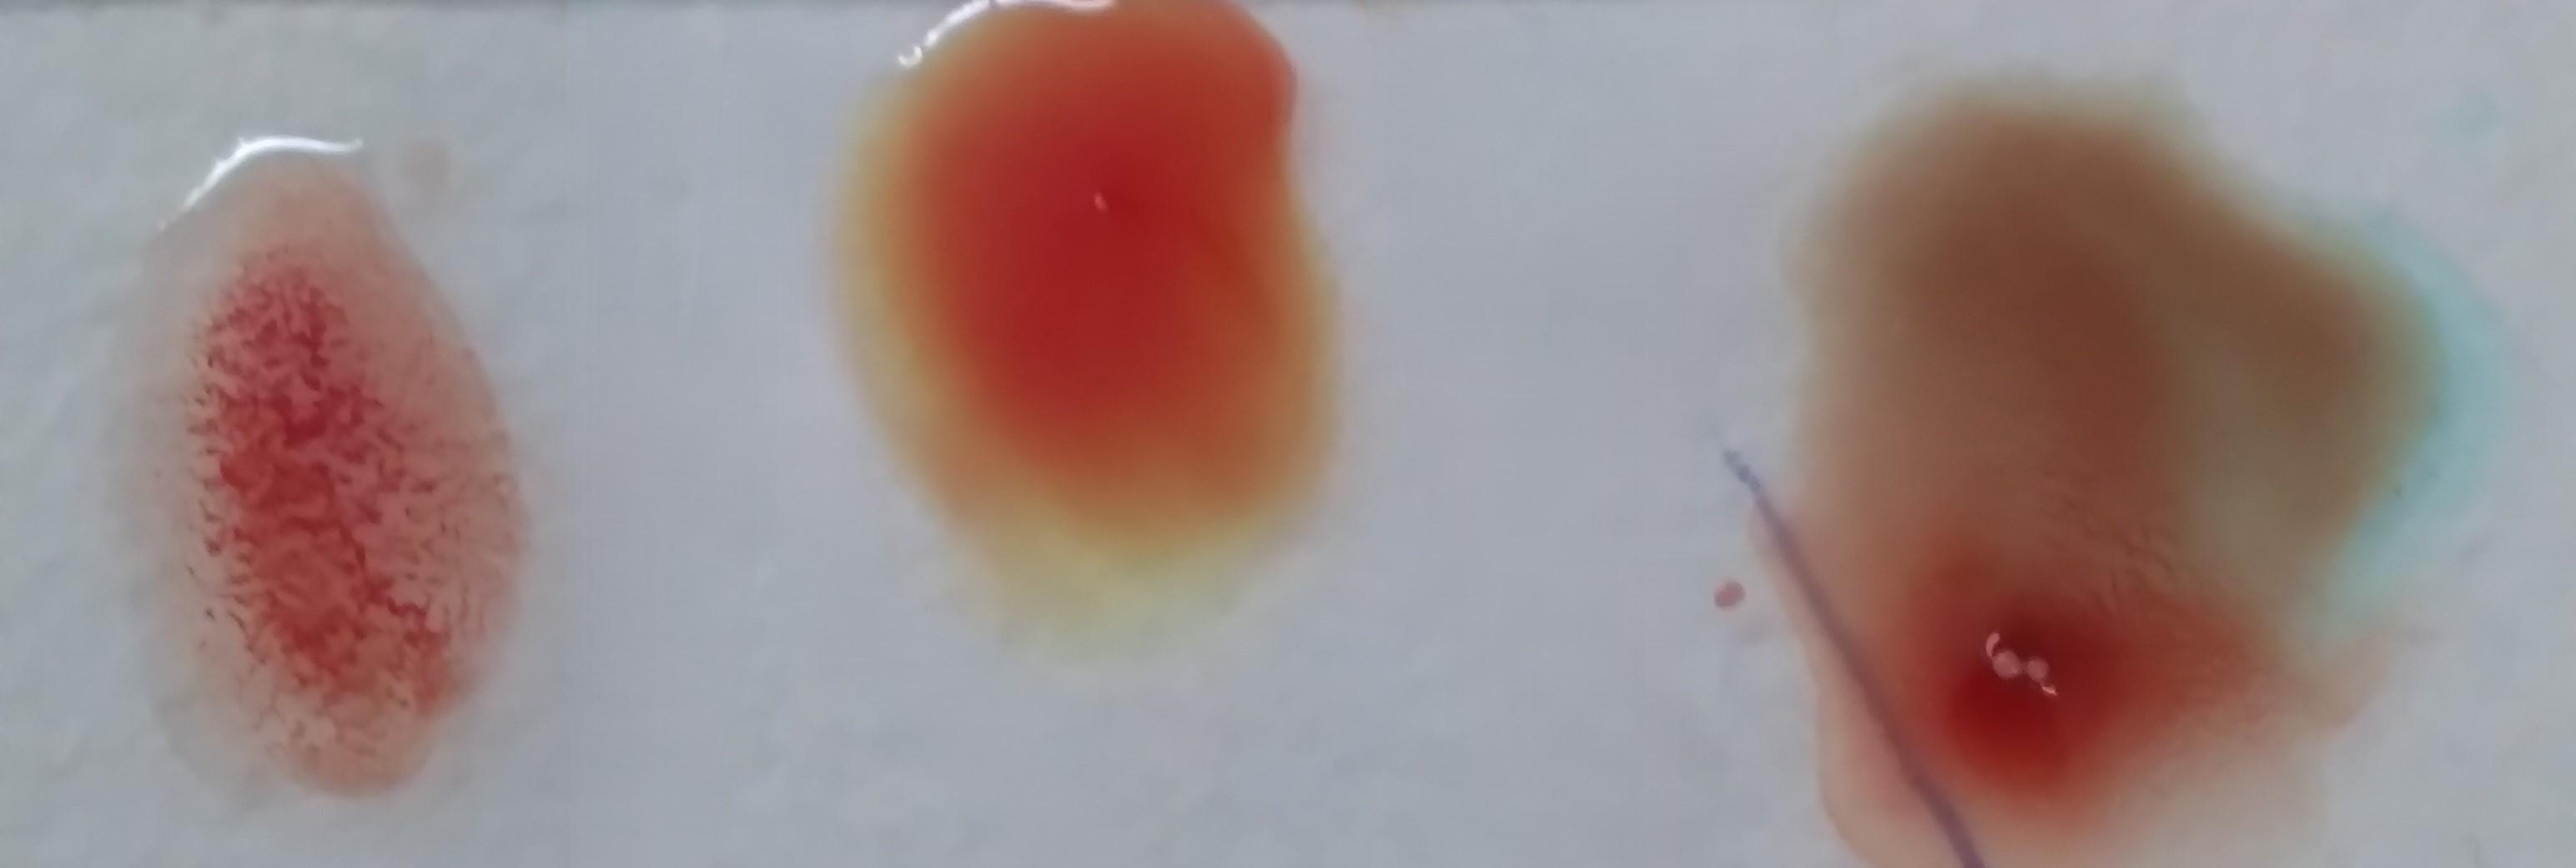D: (117, 164, 519, 812)
